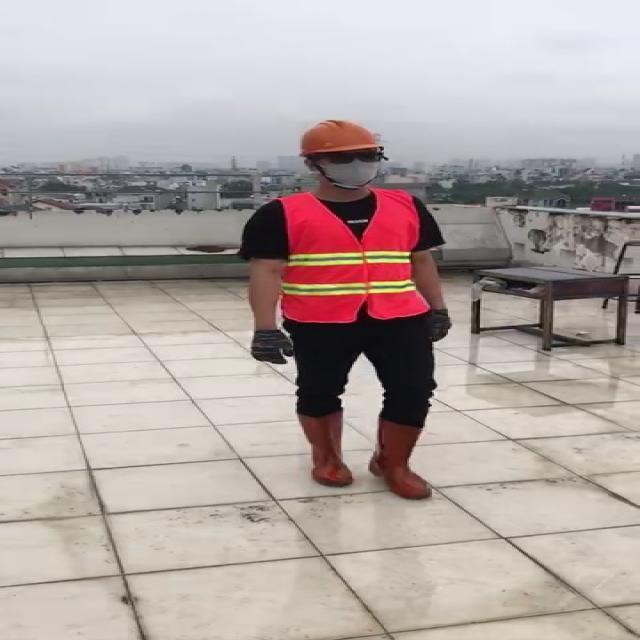boots: (361, 405, 431, 499), (296, 404, 351, 483)
gloves: (251, 329, 293, 365), (427, 307, 451, 341)
hard-hat: (298, 119, 382, 157)
mask: (314, 155, 381, 189)
person: (236, 119, 452, 500)
ppe-suit: (235, 119, 453, 500), (237, 186, 447, 430), (238, 186, 446, 325)
